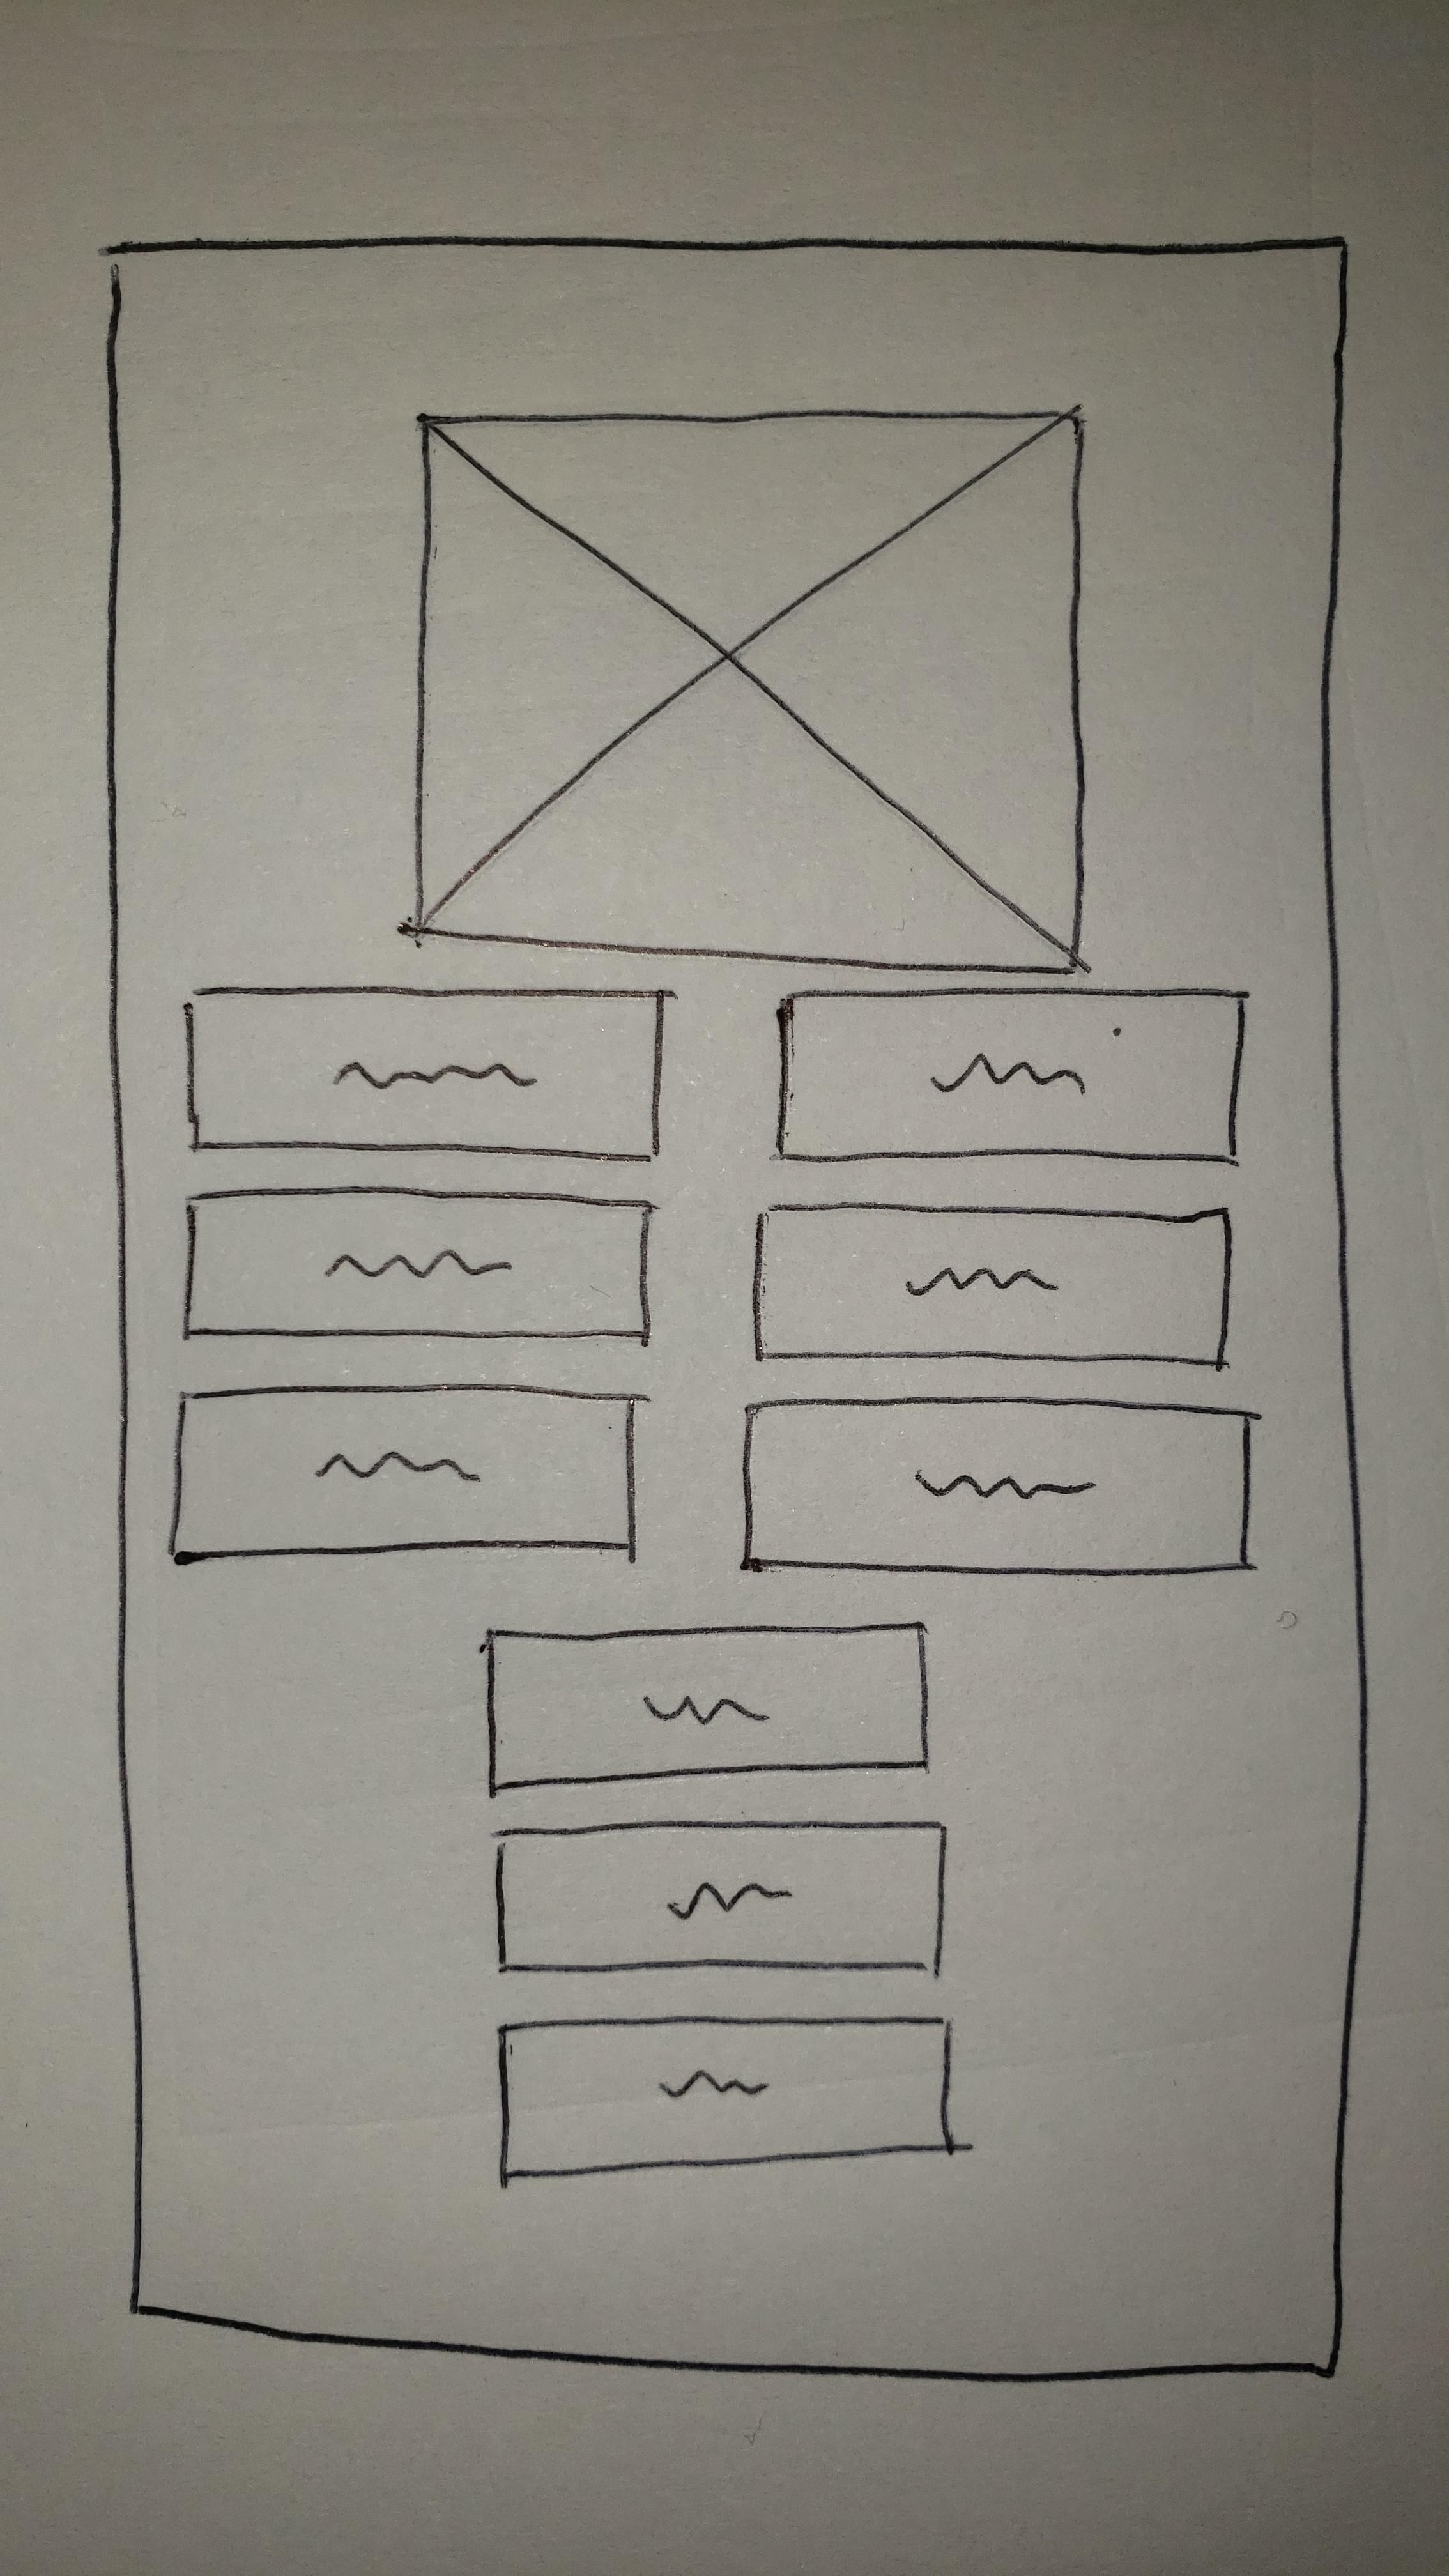Button: (740, 1399, 1253, 1573), (168, 1384, 637, 1566), (186, 989, 665, 1162), (777, 989, 1247, 1162), (497, 2013, 957, 2181), (483, 1626, 932, 1796), (752, 1208, 1230, 1361), (184, 1189, 653, 1341), (495, 1821, 948, 1971)
Image: (414, 409, 1086, 975)
Screen: (108, 241, 1373, 2380)
